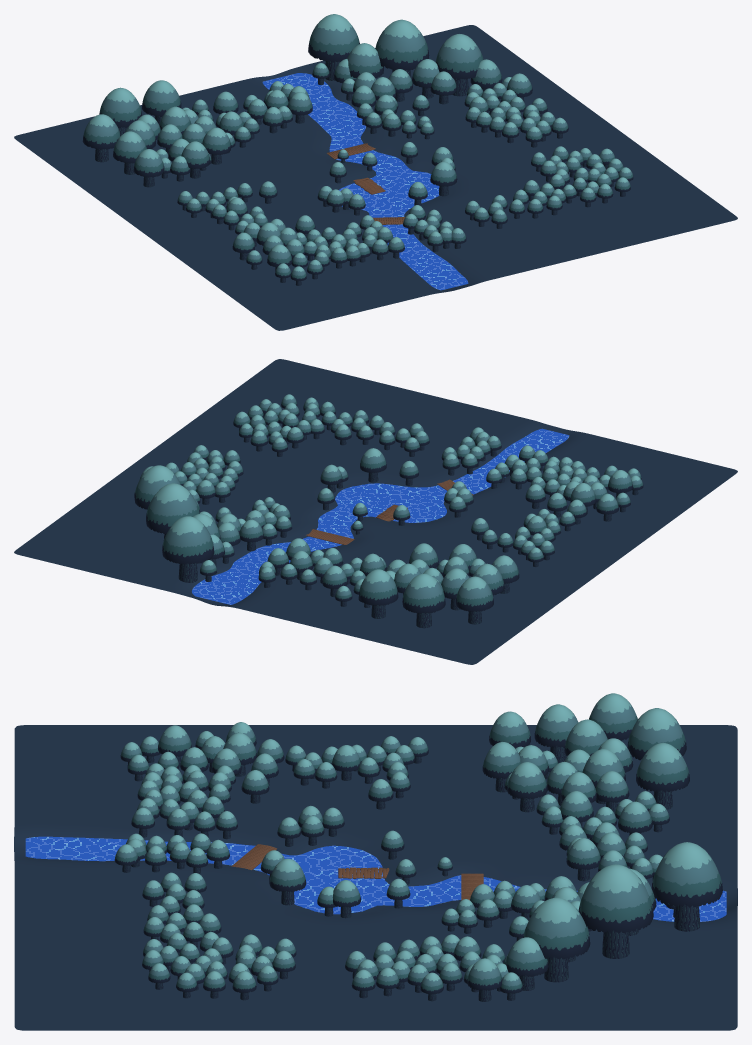
File: Forest Area 1.glb
3 renders of one model, top to bottom at view 1: azimuth 30°, elevation 25°; view 2: azimuth 150°, elevation 25°; view 3: azimuth 270°, elevation 25°, orthographic. The views are drawn at different scales.
Parts seen in each view (by area): view 1: Forest Area 1 Terrain, Water, Placeholder Tree.239, Placeholder Tree.170, Placeholder Tree.318, Placeholder Tree.312, Placeholder Tree.311, Placeholder Tree.313, Placeholder Tree.238, Placeholder Tree.320, Placeholder Tree.310, Placeholder Tree.160 (+8 smaller); view 2: Forest Area 1 Terrain, Water, Placeholder Tree.170, Placeholder Tree.239, Placeholder Tree.312, Placeholder Tree.313, Placeholder Tree.311, Placeholder Tree.318, Placeholder Tree.321, Placeholder Tree.296, Placeholder Tree.310, Placeholder Tree.320 (+2 smaller); view 3: Forest Area 1 Terrain, Water, Placeholder Tree.239, Placeholder Tree.170, Placeholder Tree.318, Placeholder Tree.313, Placeholder Tree.312, Placeholder Tree.311, Placeholder Tree.320, Placeholder Tree.293, Placeholder Tree.160, Placeholder Tree.228 (+18 smaller).
Boxes of the visible parts, box(x1,y1,x2,y2) form: Forest Area 1 Terrain: box(14, 25, 737, 330); Water: box(262, 73, 468, 290); Placeholder Tree.239: box(375, 19, 429, 78); Placeholder Tree.170: box(308, 14, 359, 80); Placeholder Tree.318: box(435, 34, 483, 96); Placeholder Tree.312: box(99, 87, 142, 135); Placeholder Tree.311: box(82, 114, 120, 162); Placeholder Tree.313: box(142, 80, 181, 125); Placeholder Tree.238: box(347, 43, 383, 78); Placeholder Tree.320: box(113, 131, 146, 174); Placeholder Tree.310: box(133, 149, 164, 187); Placeholder Tree.160: box(202, 127, 231, 164); Forest Area 1 Terrain: box(14, 359, 737, 664); Water: box(192, 428, 569, 604); Placeholder Tree.170: box(162, 516, 214, 582); Placeholder Tree.239: box(146, 483, 199, 540); Placeholder Tree.312: box(402, 573, 445, 628); Placeholder Tree.313: box(359, 569, 398, 618); Placeholder Tree.311: box(456, 576, 493, 624); Placeholder Tree.318: box(134, 465, 180, 509); Placeholder Tree.321: box(441, 568, 469, 610); Placeholder Tree.296: box(360, 448, 386, 482); Placeholder Tree.310: box(492, 555, 519, 593); Placeholder Tree.320: box(472, 563, 504, 595); Forest Area 1 Terrain: box(14, 725, 737, 1030); Water: box(25, 836, 726, 921); Placeholder Tree.239: box(578, 864, 653, 958); Placeholder Tree.170: box(651, 842, 722, 931); Placeholder Tree.318: box(523, 897, 590, 982); Placeholder Tree.313: box(636, 743, 689, 809); Placeholder Tree.312: box(627, 708, 686, 760); Placeholder Tree.311: box(589, 693, 637, 741); Placeholder Tree.320: box(534, 704, 578, 763); Placeholder Tree.293: box(505, 937, 548, 990); Placeholder Tree.160: box(507, 762, 547, 812); Placeholder Tree.228: box(482, 742, 520, 792).
Size of the model in its own units: 100 by 15.59 by 100.
Materials: 6 (5 with a texture image).
